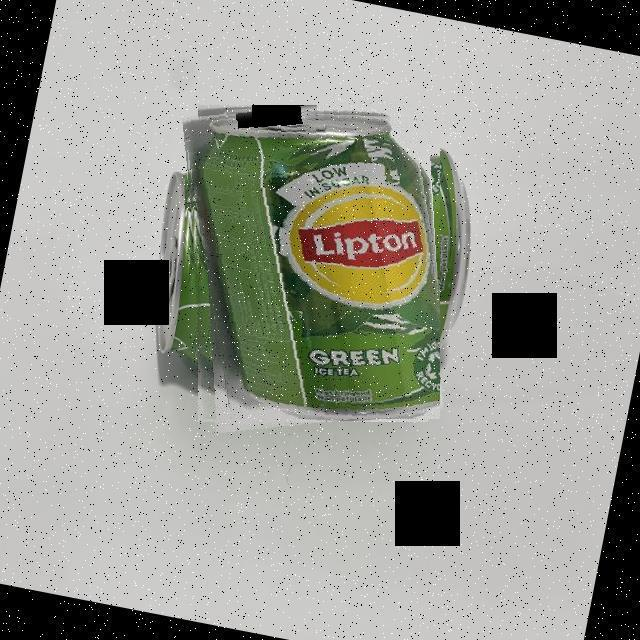recyclable: (186, 112, 440, 419)
